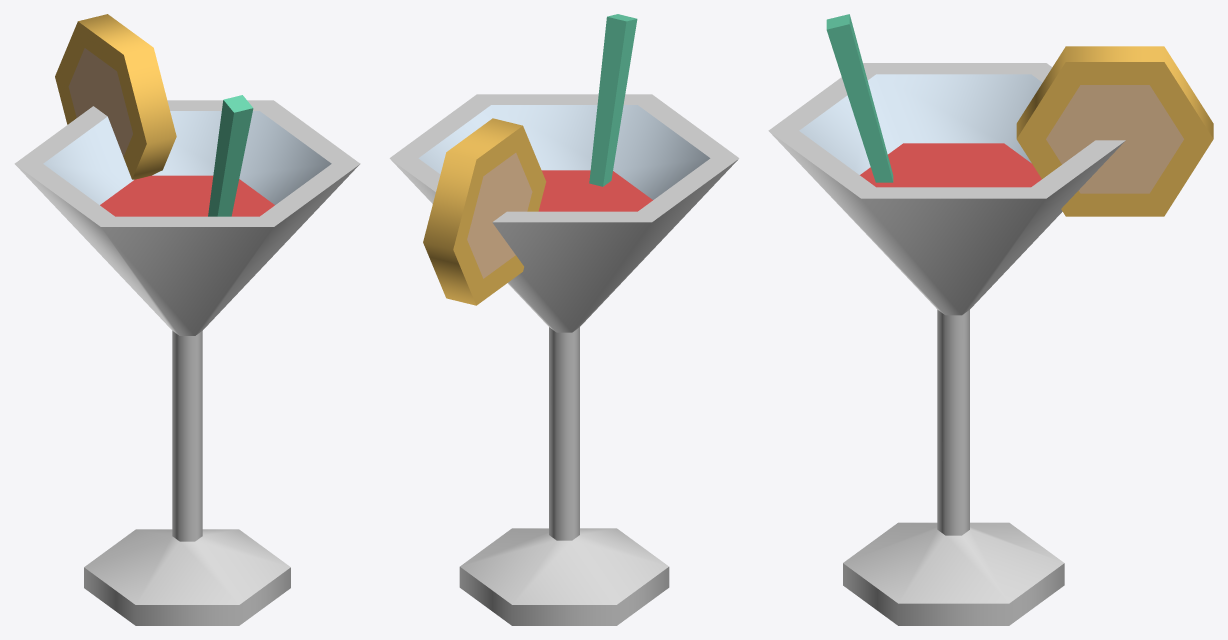
File: cocktail.dae
The picture shows the model from 3 angles, left to right: view 1: azimuth 30°, elevation 25°; view 2: azimuth 150°, elevation 25°; view 3: azimuth 270°, elevation 25°; orthographic projection. The views are drawn at different scales.
Visible parts, largest first — view 1: cocktail, lemon, straw; view 2: cocktail, lemon, straw; view 3: cocktail, lemon, straw.
Boxes of the visible parts, <box> form: cocktail: <box>14,100,360,625</box>; lemon: <box>55,14,176,179</box>; straw: <box>208,95,253,216</box>; cocktail: <box>389,94,739,625</box>; lemon: <box>423,118,546,305</box>; straw: <box>589,14,637,186</box>; cocktail: <box>768,63,1125,625</box>; lemon: <box>1016,46,1213,216</box>; straw: <box>826,14,893,182</box>.
Bounding box in the file's own units: 0.2607 × 0.5059 × 0.3615.
